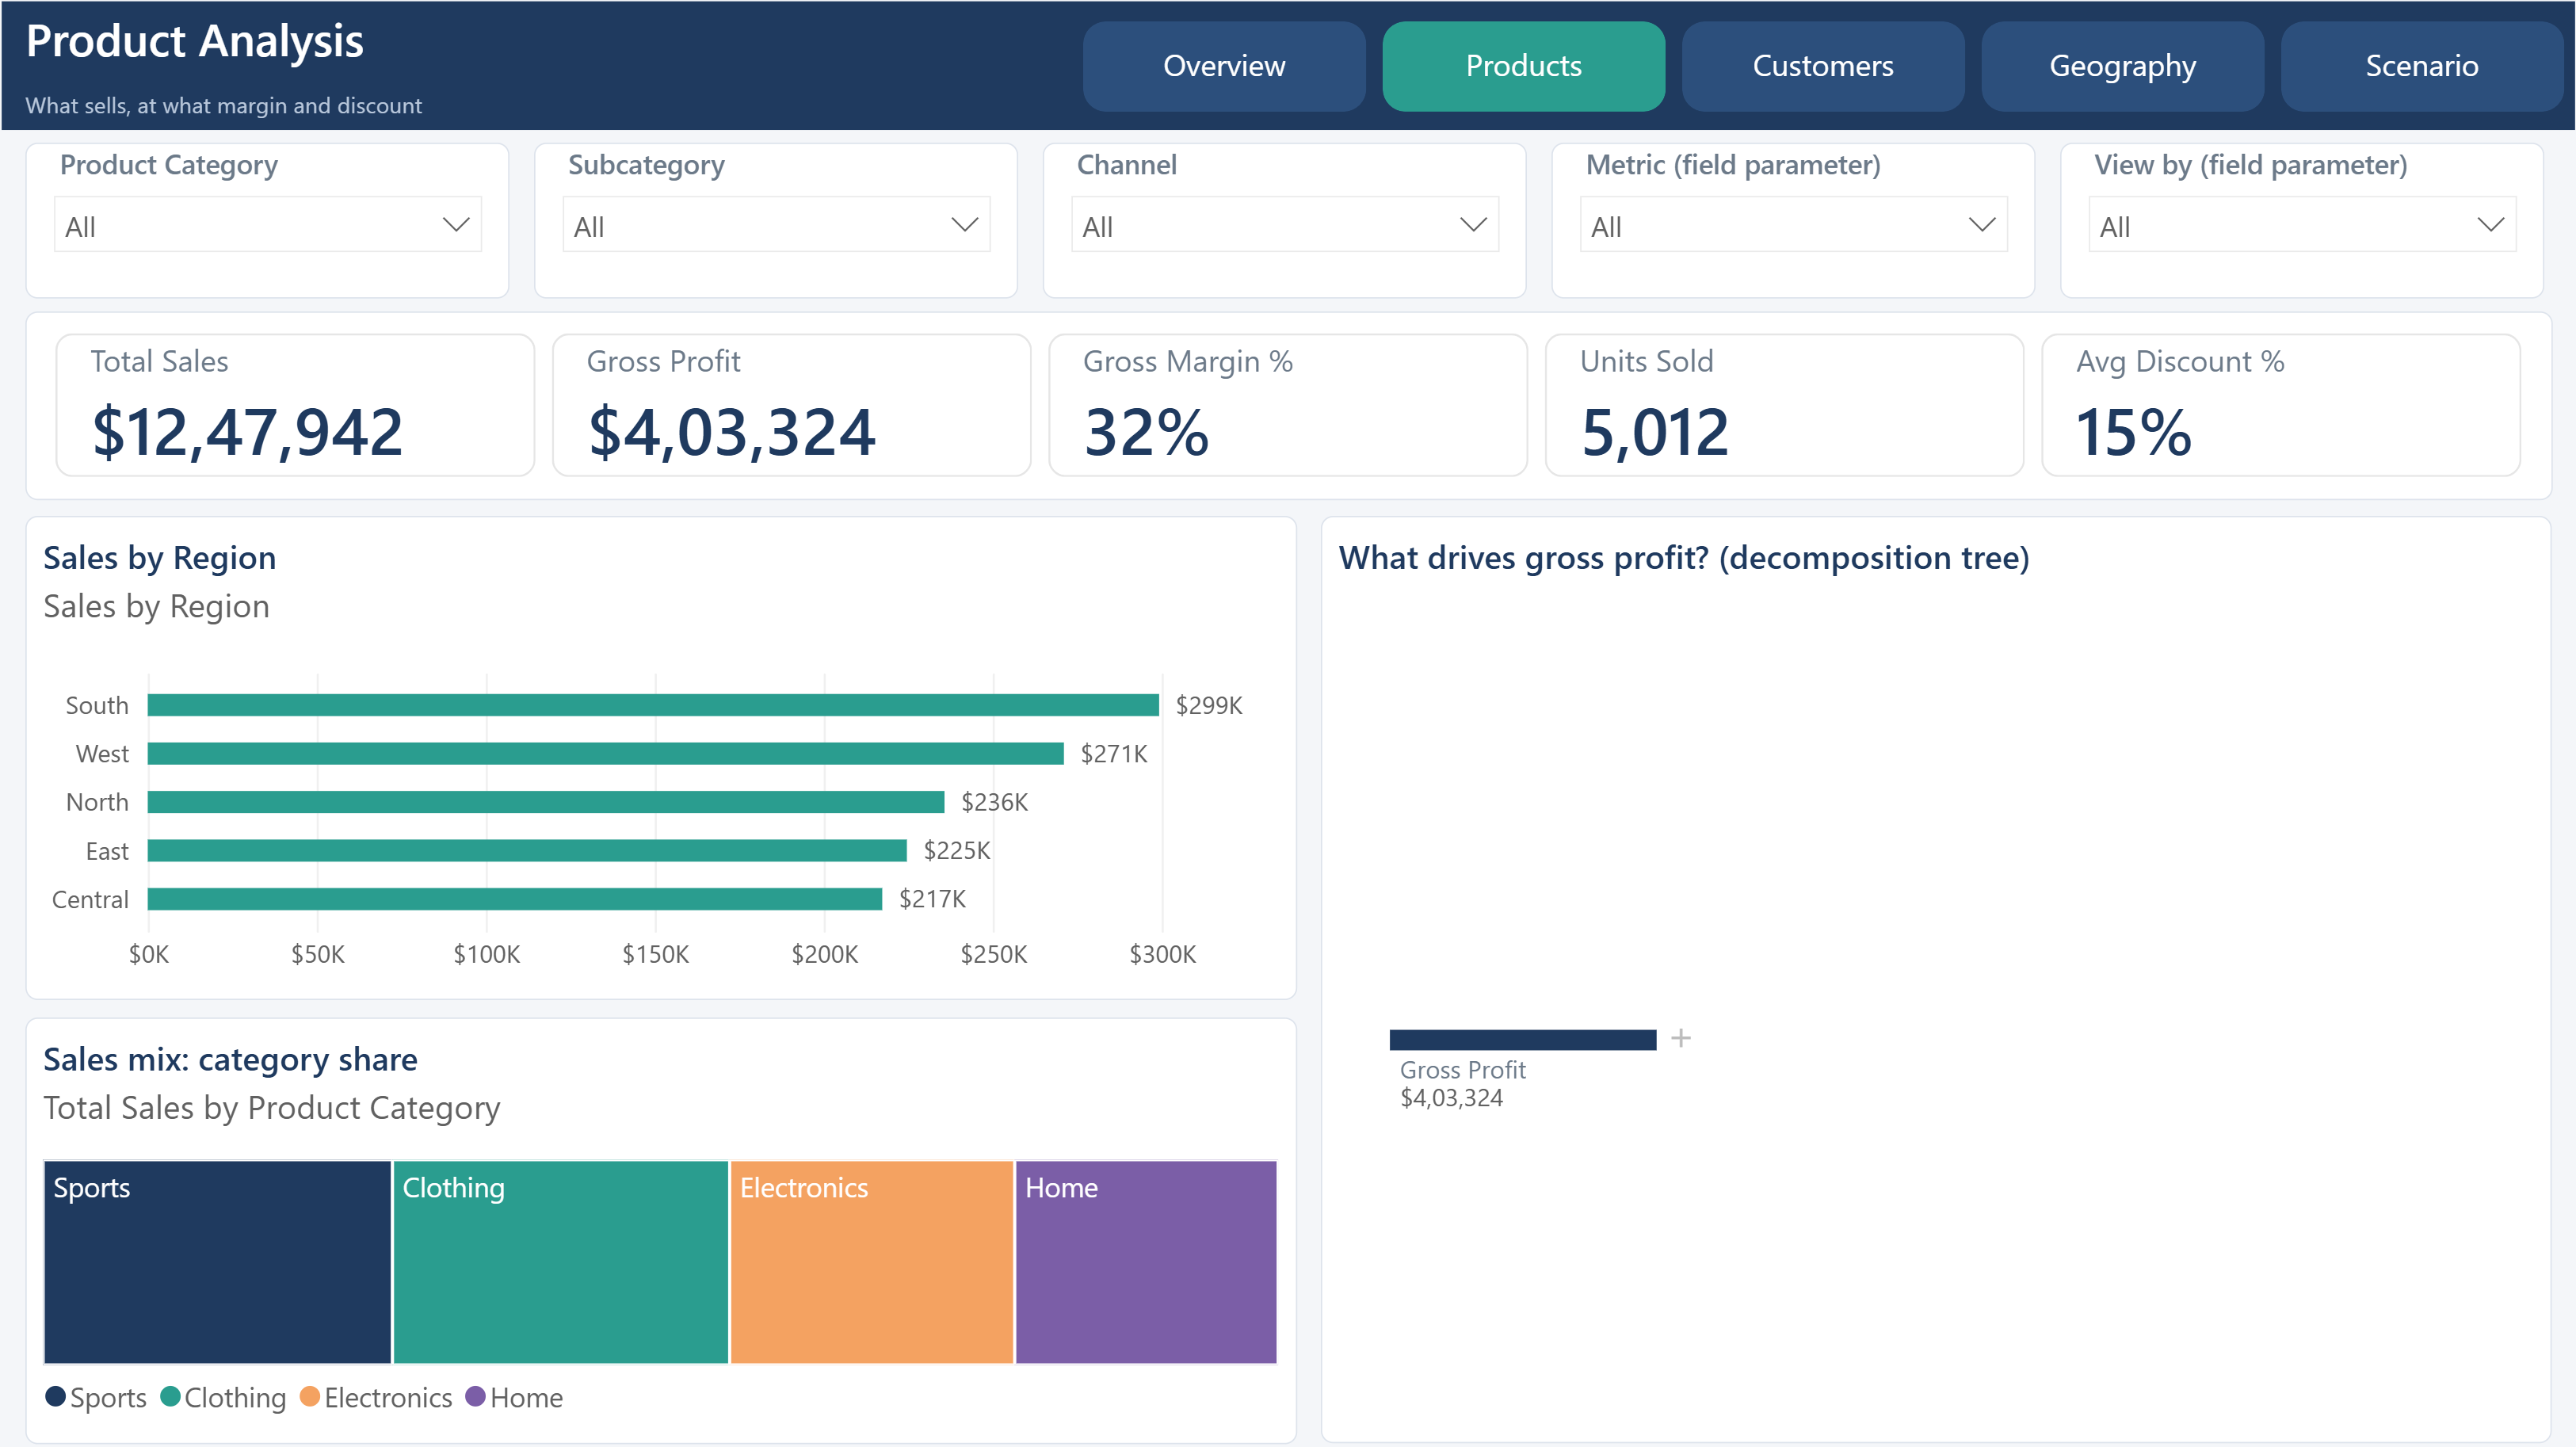

Layout of this report page (visuals, bound fields, positions):
{"tool":"powerbi","page":{"name":"Product Analysis","canvas":[1280,720],"ordinal":1},"visuals":[{"type":"basicShape","box":[0,0,1280,64],"z":1010},{"type":"textbox","box":[24,4,470,36],"z":1020},{"type":"textbox","box":[24,40,470,22],"z":1030},{"type":"actionButton","box":[540,10,138,44],"z":1040},{"type":"actionButton","box":[686,10,138,44],"z":1050},{"type":"actionButton","box":[832,10,138,44],"z":1060},{"type":"actionButton","box":[978,10,138,44],"z":1070},{"type":"actionButton","box":[1124,10,138,44],"z":1080},{"type":"slicer","fields":{"Values":["Sales.Product Category"]},"box":[24,70,236,76],"z":1090},{"type":"slicer","fields":{"Values":["Sales.Product Subcategory"]},"box":[272,70,236,76],"z":1100},{"type":"slicer","fields":{"Values":["Sales.Channel"]},"box":[520,70,236,76],"z":1110},{"type":"slicer","fields":{"Values":["Metric Selector.Metric Selector"]},"box":[768,70,236,76],"z":1120},{"type":"slicer","fields":{"Values":["View By.View By"]},"box":[1016,70,236,76],"z":1130},{"type":"cardVisual","fields":{"Data":["Sales.Total Sales","Sales.Gross Profit","Sales.Gross Margin %","Sales.Units Sold","Sales.Avg Discount %"]},"box":[24,152,1232,92],"z":1140},{"type":"clusteredBarChart","fields":{"Category":["Sales.Region"],"Y":["Sales.Total Sales"]},"box":[24,252,620,236],"z":1150},{"type":"treemap","title":"Sales mix: category share","fields":{"Group":["Sales.Product Hierarchy.Product Category"],"Values":["Sales.Total Sales"]},"box":[24,496,620,208],"z":1160},{"type":"decompositionTreeVisual","title":"What drives gross profit? (decomposition tree)","fields":{"Analyze":["Sales.Gross Profit"],"ExplainBy":["Sales.Product Category","Sales.Channel","Sales.Customer Segment","Sales.Region"]},"box":[656,252,600,452],"z":1170}]}

Visuals, with their boxes in screenshot pixels (x1, y1, x2, y2), scaled from the page's 1280x720 canvas onto the 2576x1447 screenshot:
basicShape: box=[0, 0, 2575, 128]
textbox: box=[48, 8, 994, 80]
textbox: box=[48, 80, 994, 124]
actionButton: box=[1087, 20, 1364, 109]
actionButton: box=[1380, 20, 1658, 109]
actionButton: box=[1674, 20, 1952, 109]
actionButton: box=[1968, 20, 2246, 109]
actionButton: box=[2262, 20, 2540, 109]
slicer - Sales.Product Category: box=[48, 141, 523, 293]
slicer - Sales.Product Subcategory: box=[548, 141, 1022, 293]
slicer - Sales.Channel: box=[1047, 141, 1521, 293]
slicer - Metric Selector.Metric Selector: box=[1546, 141, 2021, 293]
slicer - View By.View By: box=[2044, 141, 2520, 293]
cardVisual - Sales.Total Sales x Sales.Gross Profit: box=[48, 305, 2528, 491]
clusteredBarChart - Sales.Region x Sales.Total Sales: box=[48, 506, 1296, 981]
"Sales mix: category share" treemap: box=[48, 997, 1296, 1415]
"What drives gross profit? (decomposition tree)" decompositionTreeVisual: box=[1320, 506, 2528, 1415]
